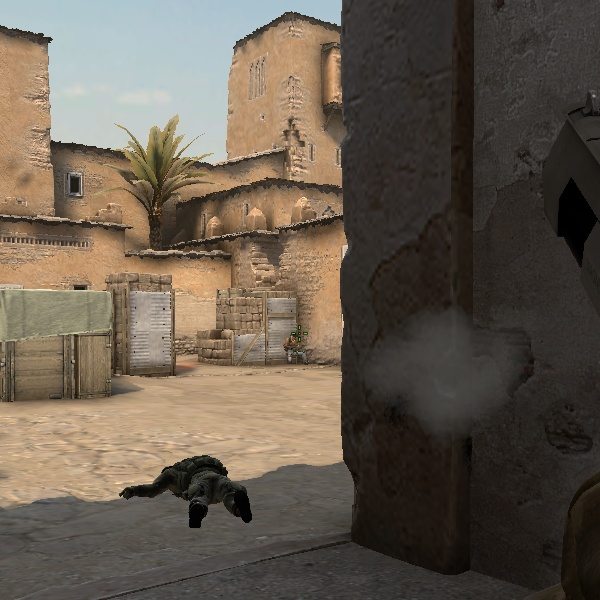t_body: (284, 332, 305, 362)
t_head: (291, 332, 299, 341)
